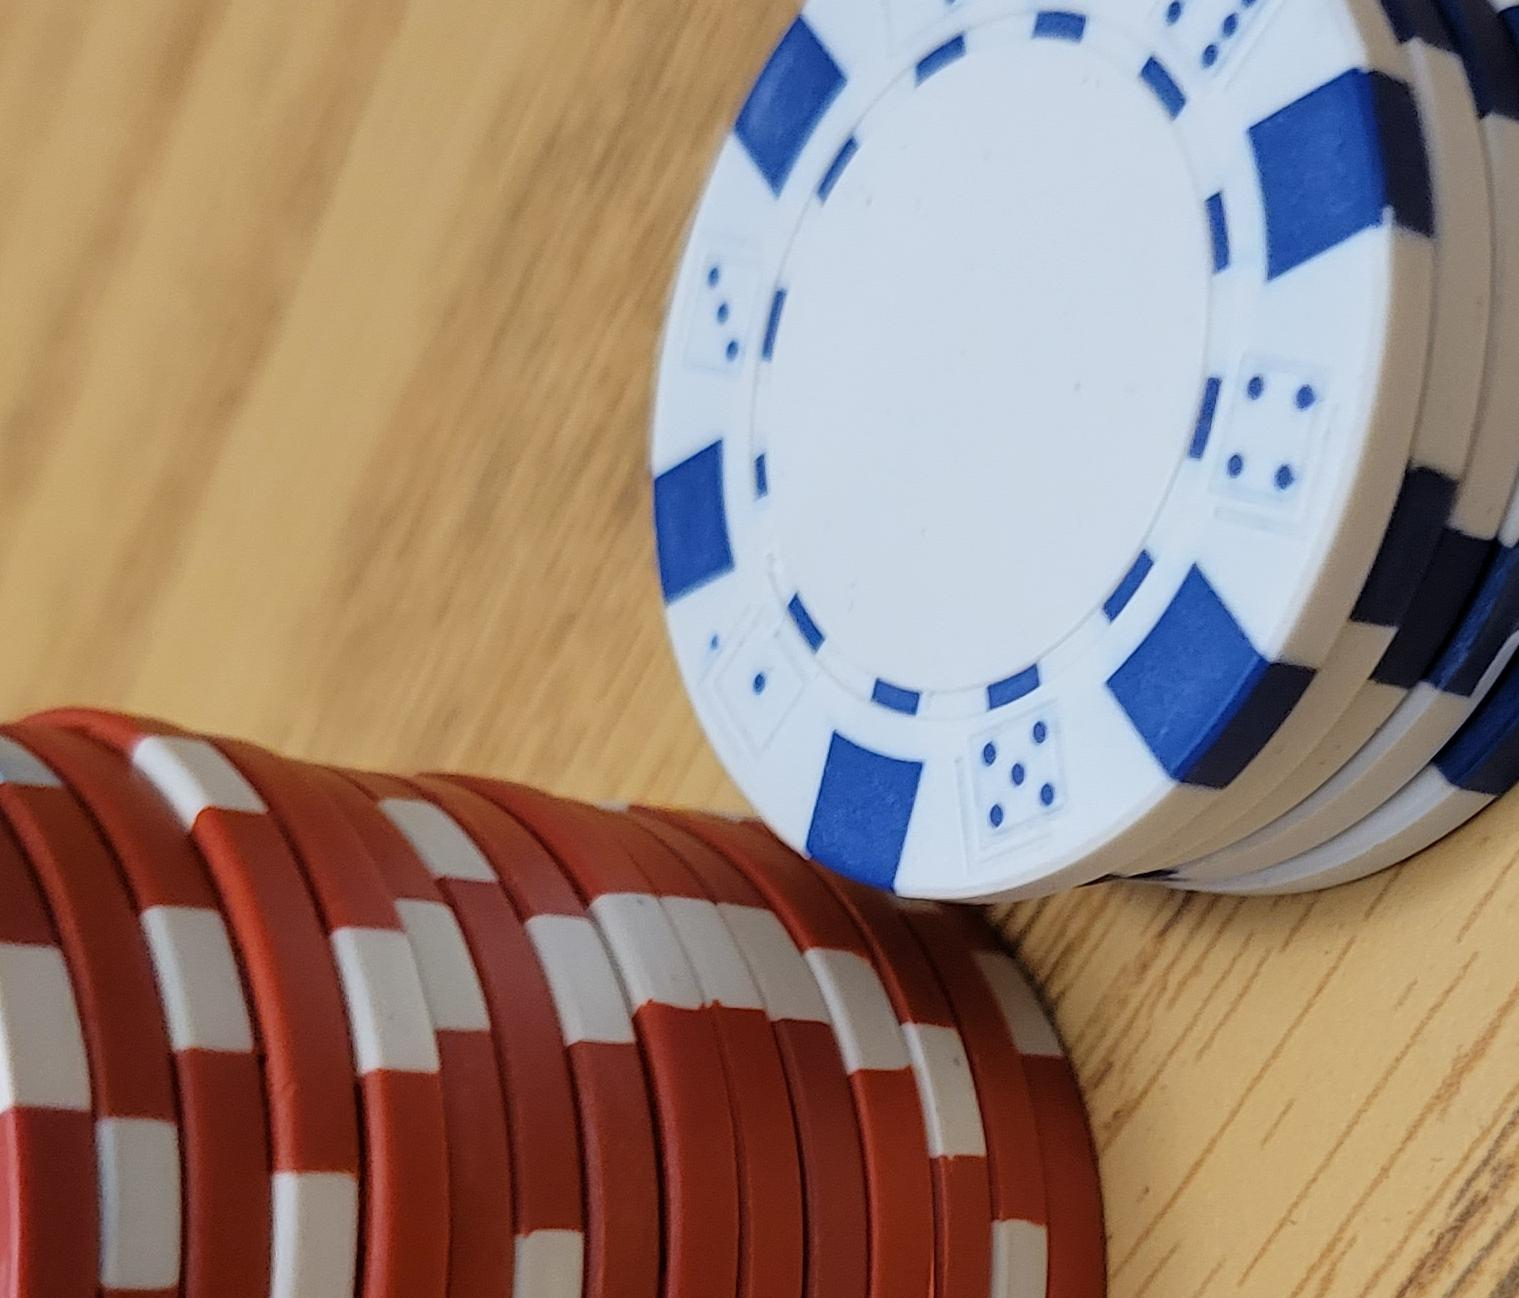Chip: (1, 130, 865, 1298)
